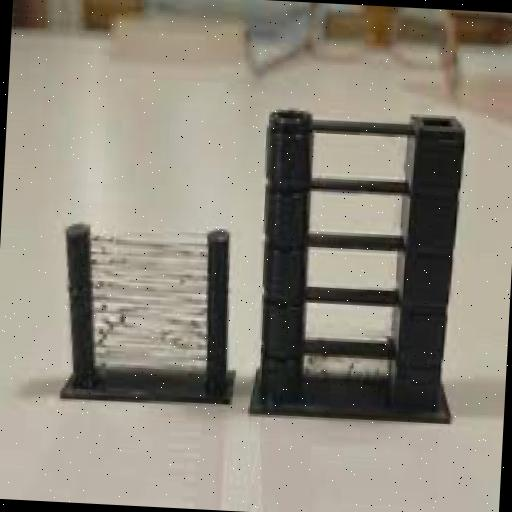stringing: (99, 229, 205, 369)
